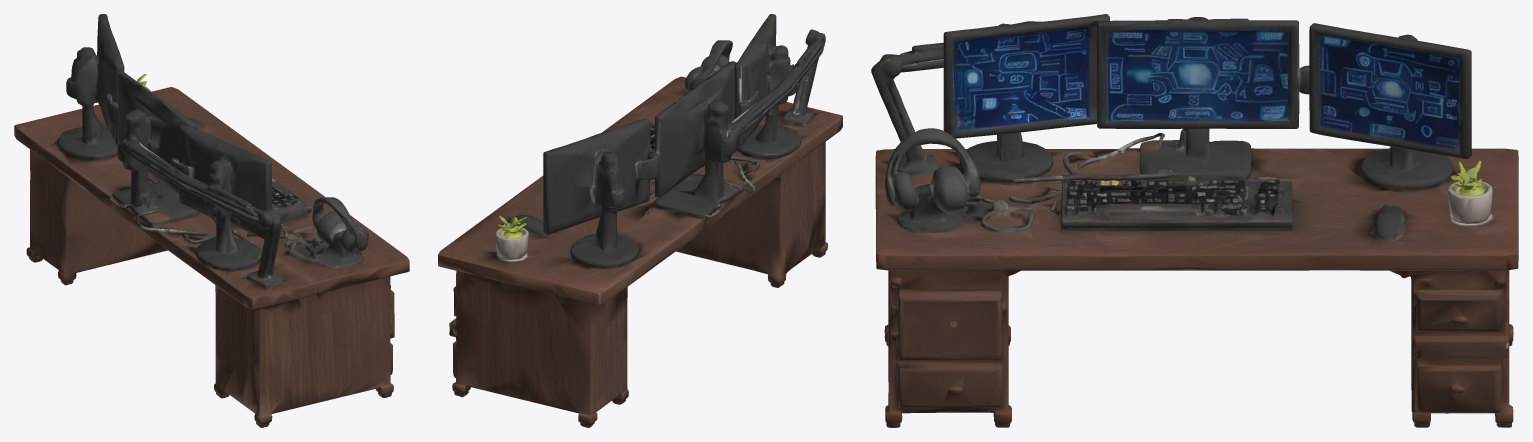
File: desk.glb
3 renders of one model, left to right at view 1: azimuth 30°, elevation 25°; view 2: azimuth 150°, elevation 25°; view 3: azimuth 270°, elevation 25°, orthographic. The views are drawn at different scales.
Visible parts, largest first — view 1: tripo_node_a9cee388-95e2-4928-b2c6-0f8a9760afd1; view 2: tripo_node_a9cee388-95e2-4928-b2c6-0f8a9760afd1; view 3: tripo_node_a9cee388-95e2-4928-b2c6-0f8a9760afd1.
Part boxes in pixels (x1,y1,x2,y2): tripo_node_a9cee388-95e2-4928-b2c6-0f8a9760afd1: [14, 14, 409, 427]; tripo_node_a9cee388-95e2-4928-b2c6-0f8a9760afd1: [438, 14, 842, 427]; tripo_node_a9cee388-95e2-4928-b2c6-0f8a9760afd1: [871, 14, 1518, 427].
Bounding box in the file's own units: 0.4196 × 0.5642 × 0.9999.
1 material, 1 textured.
